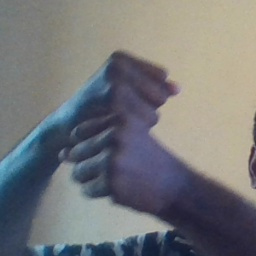G: (63, 45, 178, 206)
